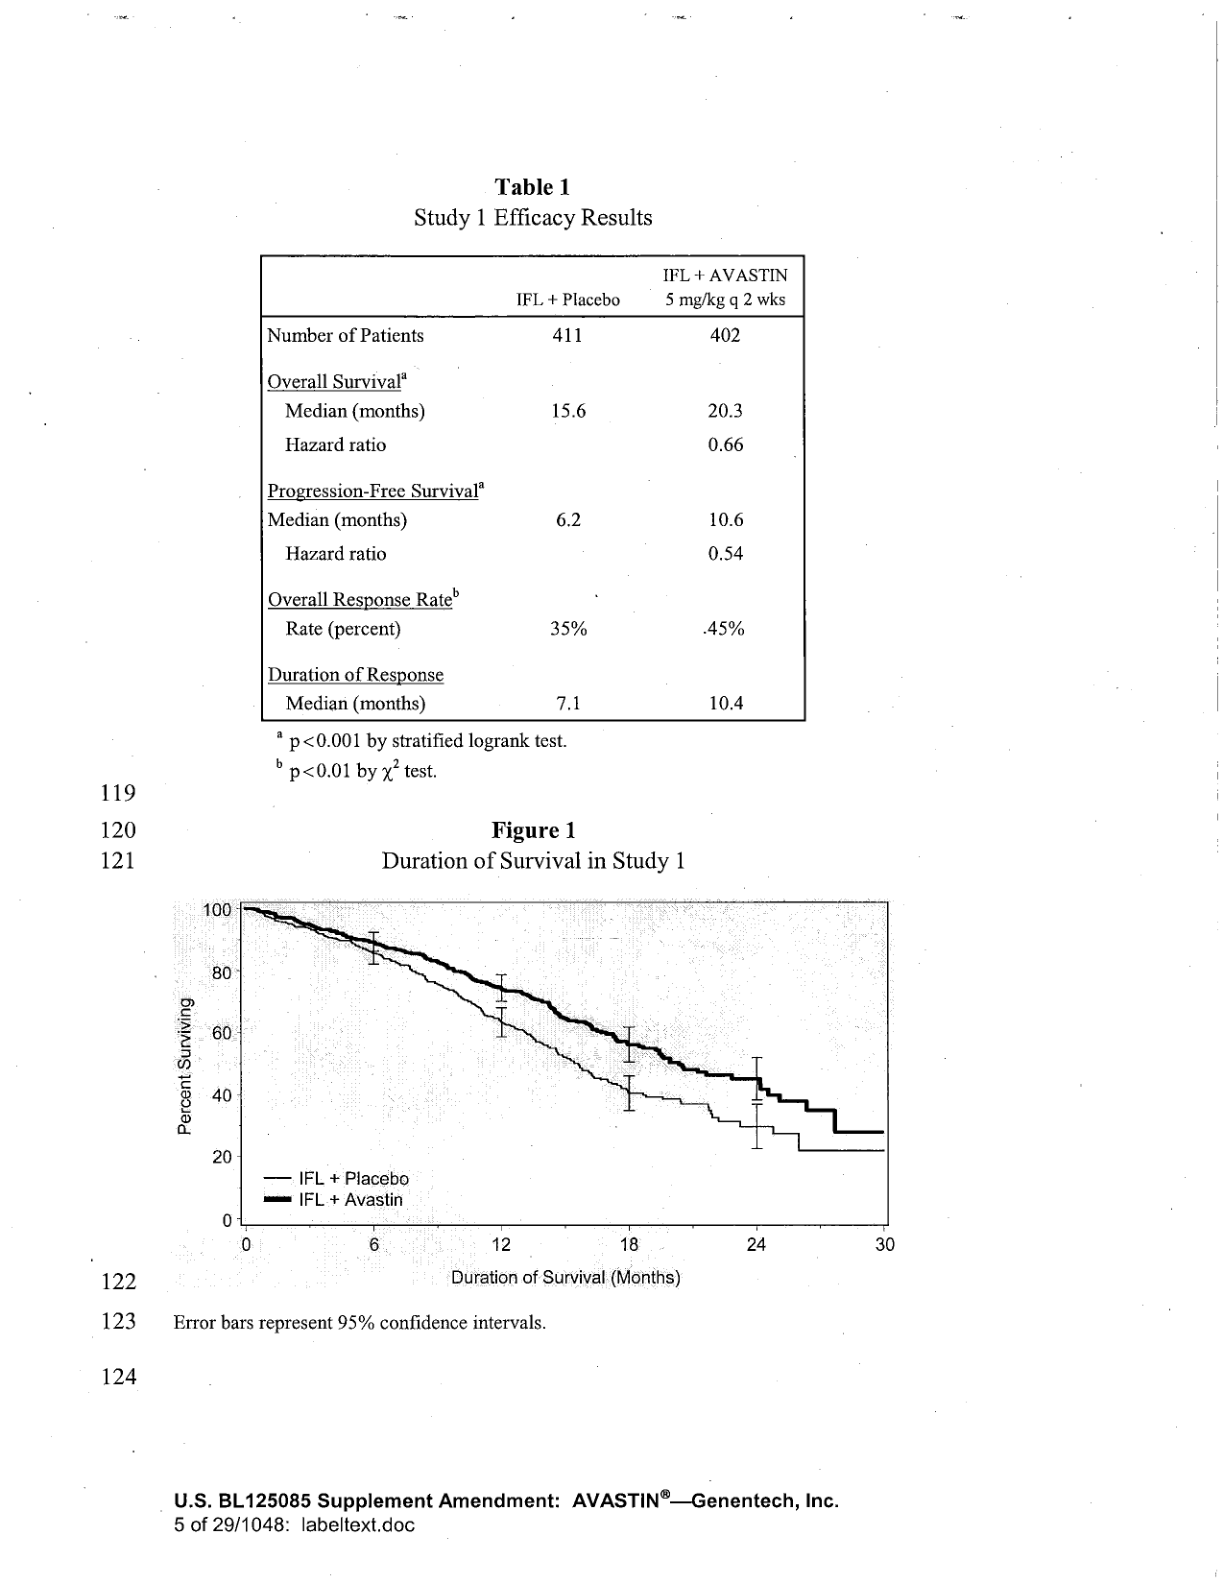partial_lined: (258, 255, 807, 724)
